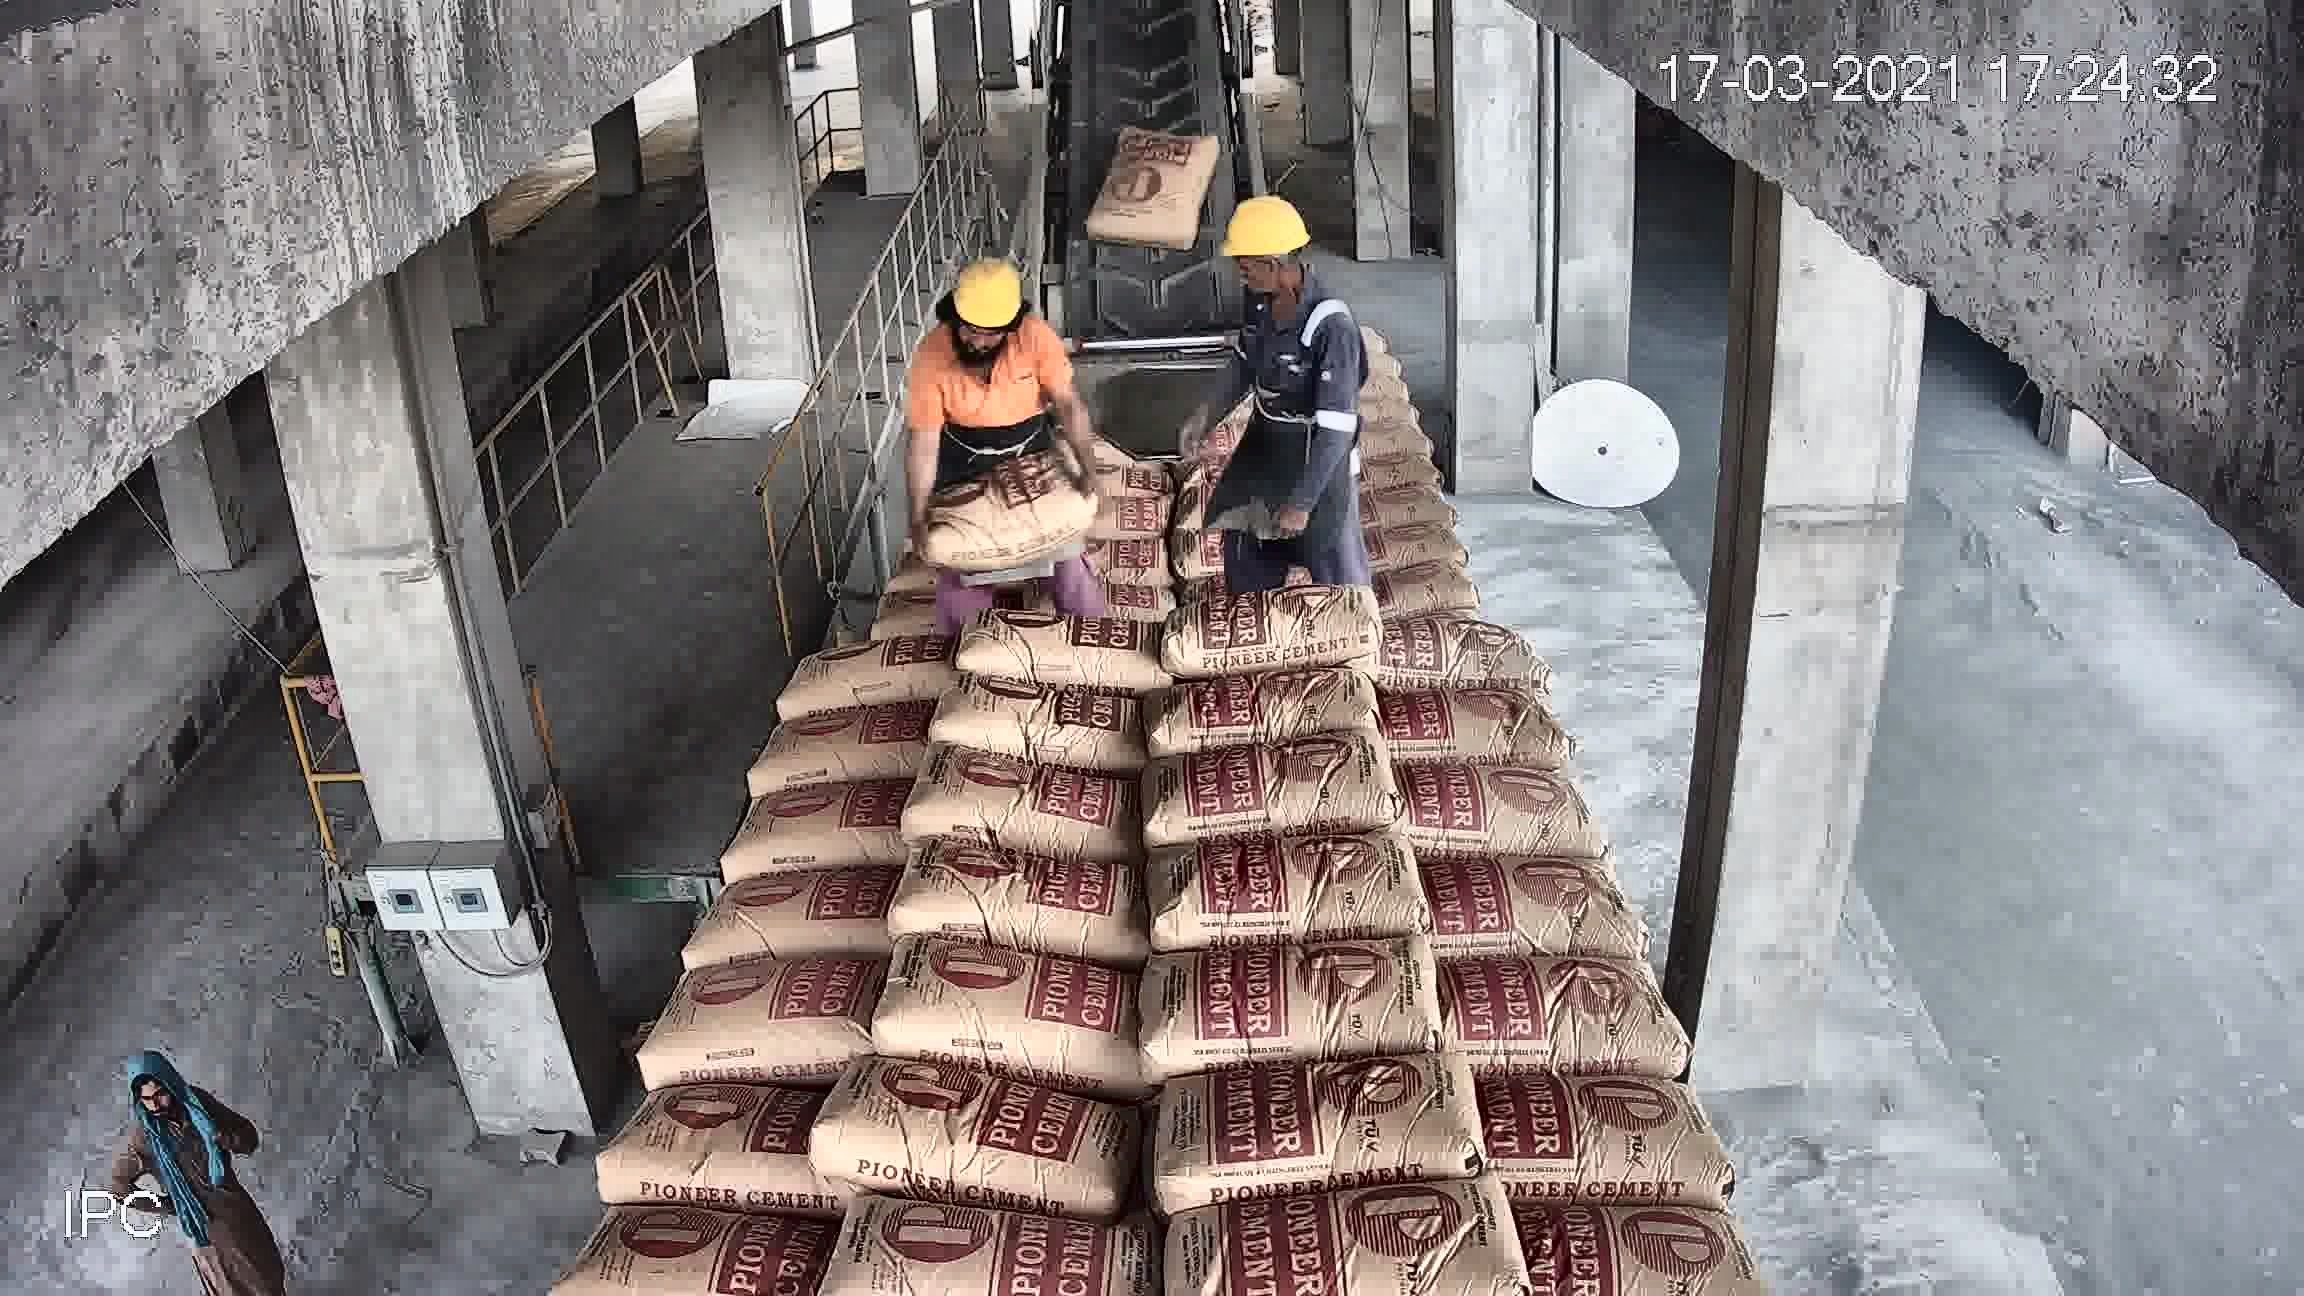bag: (1101, 195, 1204, 299)
bag_h: (1152, 1036, 1492, 1230), (1161, 1163, 1525, 1296), (801, 1165, 1125, 1294), (1143, 929, 1448, 1059), (820, 1054, 1138, 1176), (1173, 817, 1426, 964), (891, 915, 1120, 1067), (880, 824, 1127, 964), (597, 1063, 818, 1217), (1499, 1071, 1704, 1228), (1438, 956, 1701, 1074), (654, 961, 885, 1082), (1119, 745, 1393, 843), (910, 755, 1166, 859), (1152, 646, 1412, 748), (1143, 570, 1388, 677), (527, 1209, 820, 1296), (1494, 1209, 1764, 1296), (1426, 839, 1639, 946), (930, 658, 1135, 771), (729, 775, 908, 881), (937, 612, 1157, 696), (1388, 748, 1586, 840), (741, 696, 934, 783), (1154, 517, 1353, 598), (665, 889, 885, 959), (1147, 394, 1317, 484), (935, 554, 1146, 625), (794, 627, 956, 718), (788, 584, 983, 654), (953, 498, 1161, 559), (1364, 552, 1521, 631), (1380, 684, 1568, 748), (1361, 619, 1540, 684), (1146, 491, 1331, 552), (976, 424, 1158, 484), (824, 529, 970, 600), (1150, 449, 1321, 506), (995, 464, 1146, 521), (1336, 517, 1499, 568), (1334, 426, 1476, 483), (853, 451, 987, 506), (1332, 475, 1483, 524), (836, 494, 978, 540), (1310, 378, 1438, 427), (1169, 321, 1264, 386), (1158, 354, 1252, 411), (923, 400, 994, 454), (930, 383, 1000, 415)
belt: (1052, 17, 1261, 283)
